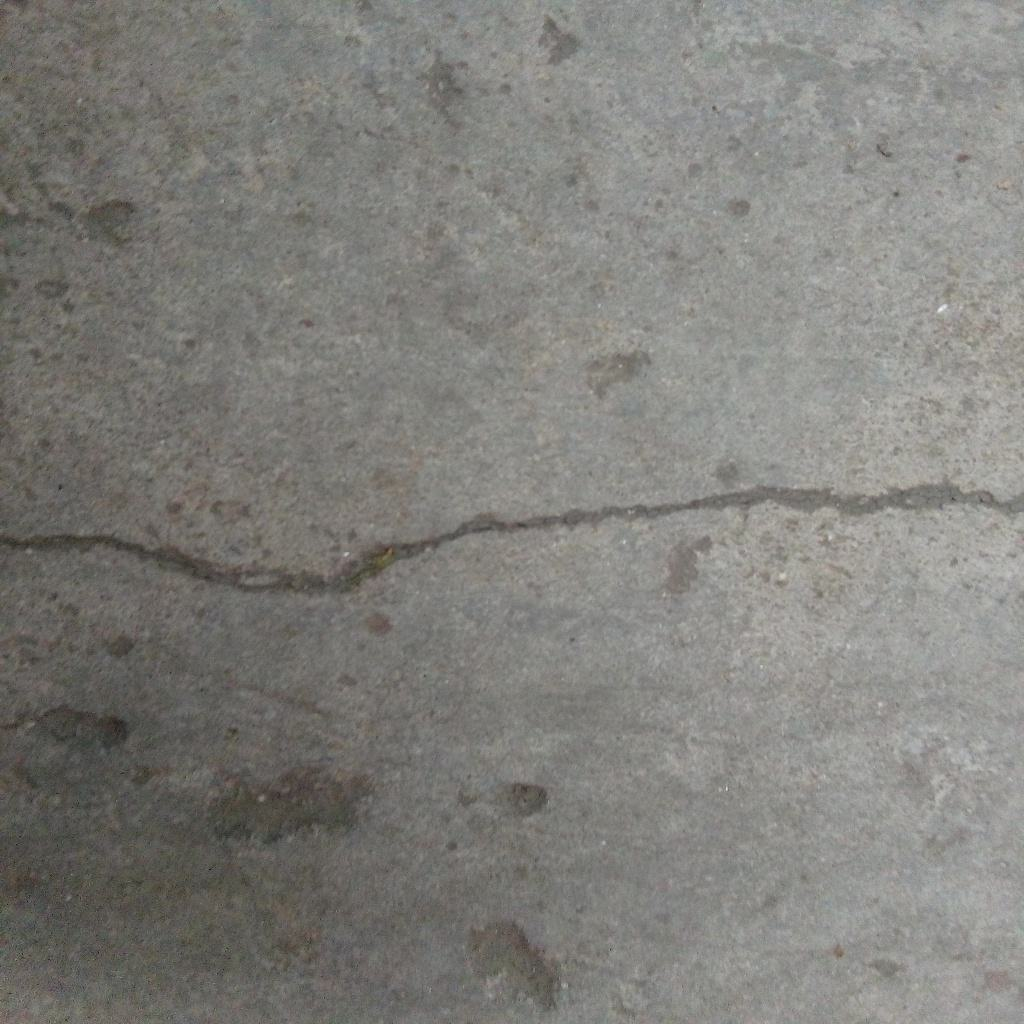Crack: (1, 481, 1024, 597)
